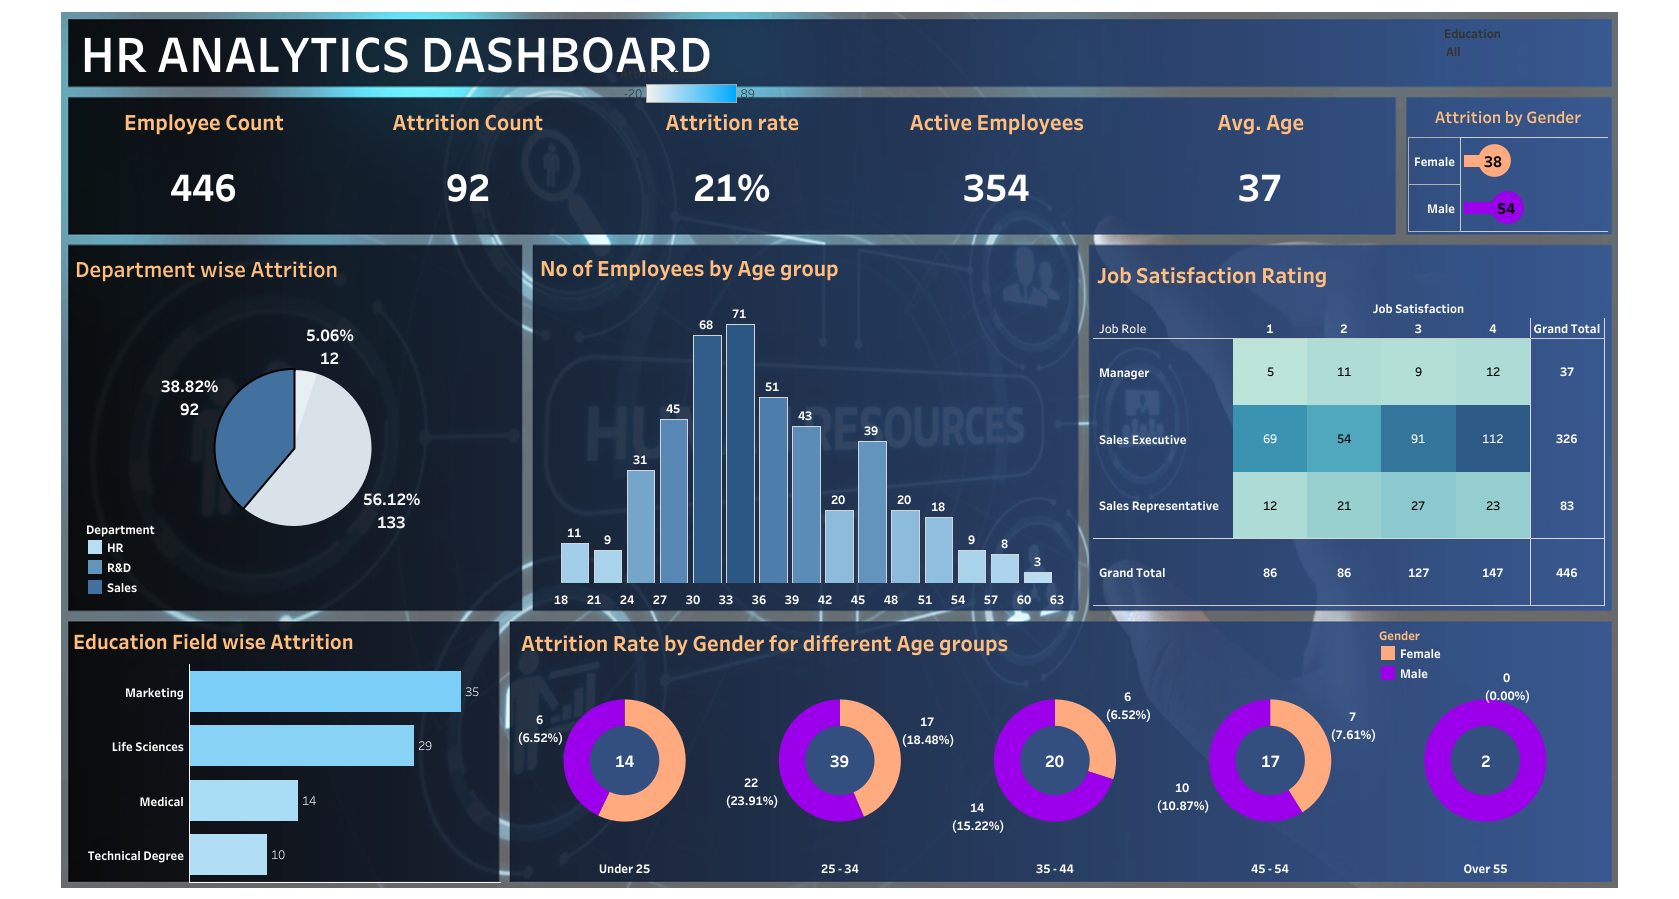

Layout of this report page (visuals, bound fields, positions):
{"tool":"tableau","page":{"name":"HR Analytics Dashboard","canvas":[1680,900],"ordinal":0},"visuals":[{"type":"image","param":"D:/Data Analytics/Data Analytics Projects/Portfolio projects/Tableau projects/HR","box":[8,8,1664,884]},{"type":"text","box":[78,23,1125,58]},{"type":"filter","title":"KPI","param":"[federated.1jcx6fq0z0b1ij19rsqne18s2c5n].[none:Education:nk]","box":[1444,23,160,59]},{"type":"legend","title":"Education Field wise Attrition","param":"[federated.1jcx6fq0z0b1ij19rsqne18s2c5n].[sum:Calculation_351562259613630464:qk]","box":[620,60,140,76]},{"type":"worksheet","title":"Attrition by Gender","mark":"Automatic","rows":["Gender"],"cols":["Calculation_351562259613630464","Calculation_351562259613630464"],"box":[1408,99,200,133]},{"type":"worksheet","title":"KPI","mark":"Automatic","box":[72,101,1321,130]},{"type":"worksheet","title":"No of Employees by Age group","mark":"Automatic","rows":["Age"],"cols":["Age (bin)"],"box":[536,247,540,360]},{"type":"worksheet","title":"Department wise Attrition","mark":"Pie","box":[71,248,445,356]},{"type":"worksheet","title":"Job Satisfaction Rating","mark":"Square","rows":["Job Role"],"cols":["Job Satisfaction"],"box":[1093,254,512,352]},{"type":"legend","title":"Department wise Attrition","param":"[federated.1jcx6fq0z0b1ij19rsqne18s2c5n].[none:Department:nk]","box":[85,518,84,78]},{"type":"worksheet","title":"Education Field wise Attrition","mark":"Automatic","rows":["Education Field"],"cols":["Calculation_351562259613630464"],"box":[69,621,431,261]},{"type":"worksheet","title":"Attrition Rate by Gender for different Age groups","mark":"Pie","rows":["Calculation_351562260015116293","Calculation_351562260015116293"],"cols":["CF_age band"],"box":[517,622,1076,255]},{"type":"legend","title":"Attrition Rate by Gender for different Age groups","param":"[federated.1jcx6fq0z0b1ij19rsqne18s2c5n].[none:Gender:nk]","box":[1378,624,140,58]}]}

Visuals, with their boxes in screenshot pixels (x1, y1, x2, y2), scaled from the page's 1680x900 canvas onto the 1679x899 screenshot:
image: select_region(8, 8, 1671, 891)
text: select_region(78, 23, 1202, 81)
"KPI" filter: select_region(1443, 23, 1603, 82)
"Education Field wise Attrition" legend: select_region(620, 60, 760, 136)
"Attrition by Gender" worksheet: select_region(1407, 99, 1607, 232)
"KPI" worksheet: select_region(72, 101, 1392, 231)
"No of Employees by Age group" worksheet: select_region(536, 247, 1075, 606)
"Department wise Attrition" worksheet (Pie marks): select_region(71, 248, 516, 603)
"Job Satisfaction Rating" worksheet (Square marks): select_region(1092, 254, 1604, 605)
"Department wise Attrition" legend: select_region(85, 517, 169, 595)
"Education Field wise Attrition" worksheet: select_region(69, 620, 500, 881)
"Attrition Rate by Gender for different Age groups" worksheet (Pie marks): select_region(517, 621, 1592, 876)
"Attrition Rate by Gender for different Age groups" legend: select_region(1377, 623, 1517, 681)
